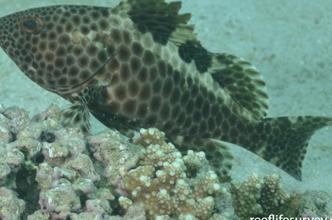Serranidae -Groupers-: (0, 0, 332, 184)
